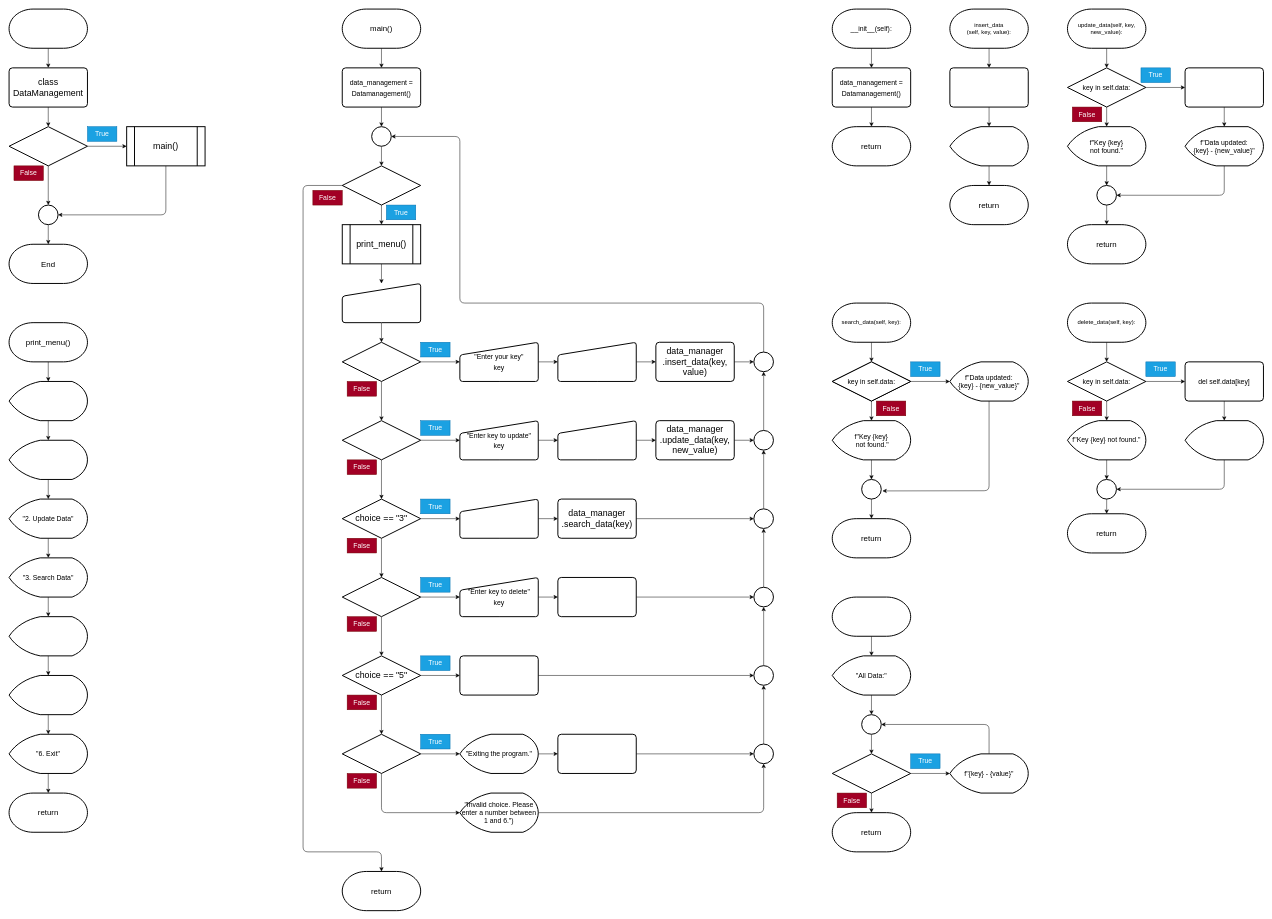
Some shapes in this 1272 by 919 pixel diagram are drawn without their labels. Here are the shapes that lost their labels. From the top down, the box of each, then its label:
(8, 8, 88, 49): Start
(949, 67, 1029, 107): self.data[key] = value
(1184, 67, 1264, 107): self.data[key] = new_value
(8, 126, 88, 166): __name__ == "__main__"
(949, 126, 1029, 166): (f"Data inserted: {key} - {value}"
(342, 165, 421, 205): while True
(342, 283, 421, 323): "Enter your choice(1-6)" choice
(342, 342, 421, 382): choice == "1"
(557, 342, 637, 382): "Enter your value" value
(8, 381, 88, 421): "\nMenu:"
(8, 440, 88, 480): "1. Insert Data"
(342, 420, 421, 460): choice == "2"
(557, 420, 637, 460): "Enter new value" value
(1184, 420, 1264, 460): f"Data deleted: {key}"
(459, 498, 539, 539): "Enter key to search" key
(342, 577, 421, 617): choice == "4"
(557, 577, 637, 617): data_manager .delete_data(key)
(832, 596, 911, 637): view_all_data(self):
(8, 616, 88, 656): "4. Delete Data"
(8, 675, 88, 715): "5. View All Data"
(459, 655, 539, 695): data_manager .view_all_data()
(342, 734, 421, 774): choice == "6"
(557, 734, 637, 774): break
(832, 753, 911, 793): key, value in self.data.items():
